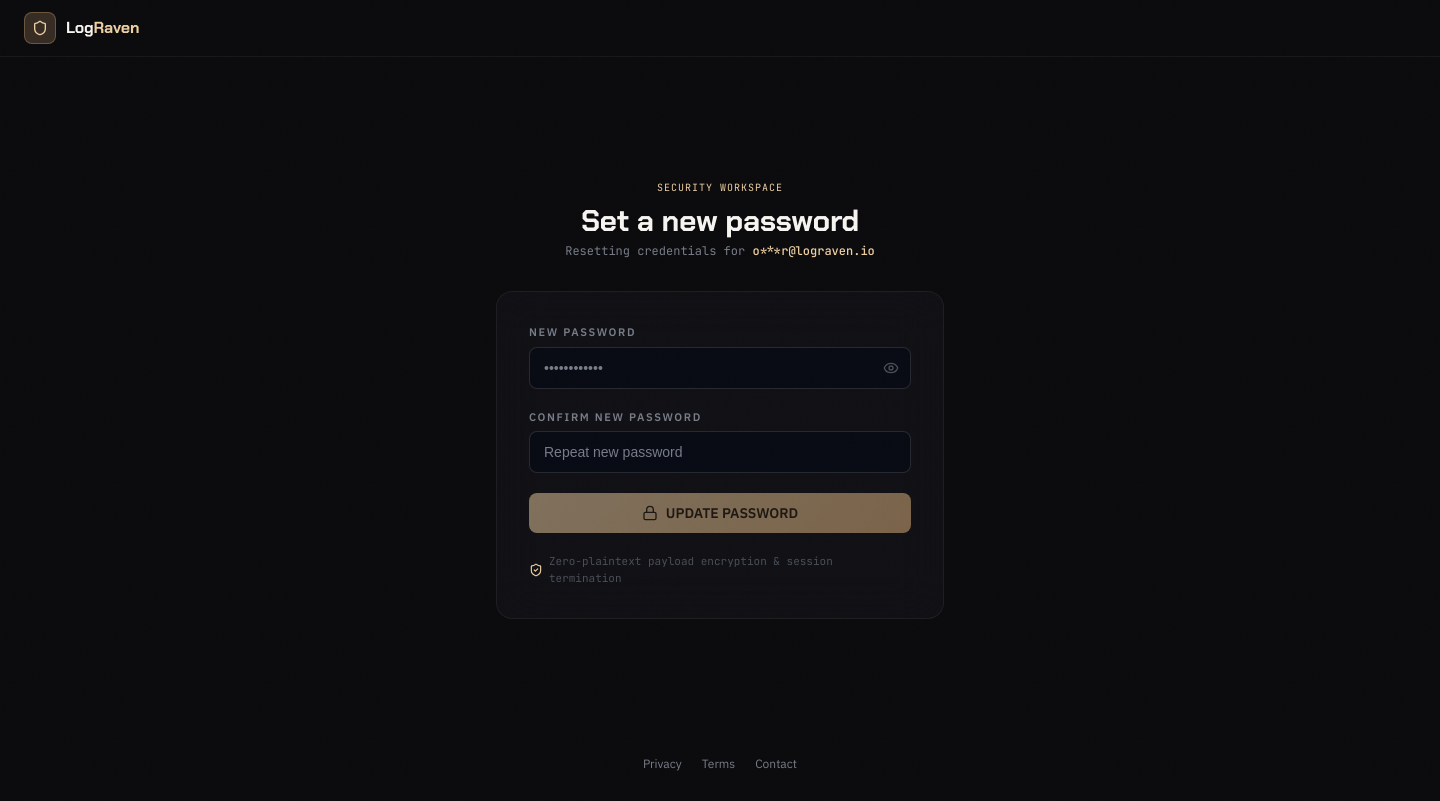
ResetPassword › enforces live password complexity checklist before allowing submit
Type "Short1!" into the password field labelled "New password" at (720, 368), box [529,346,911,388]
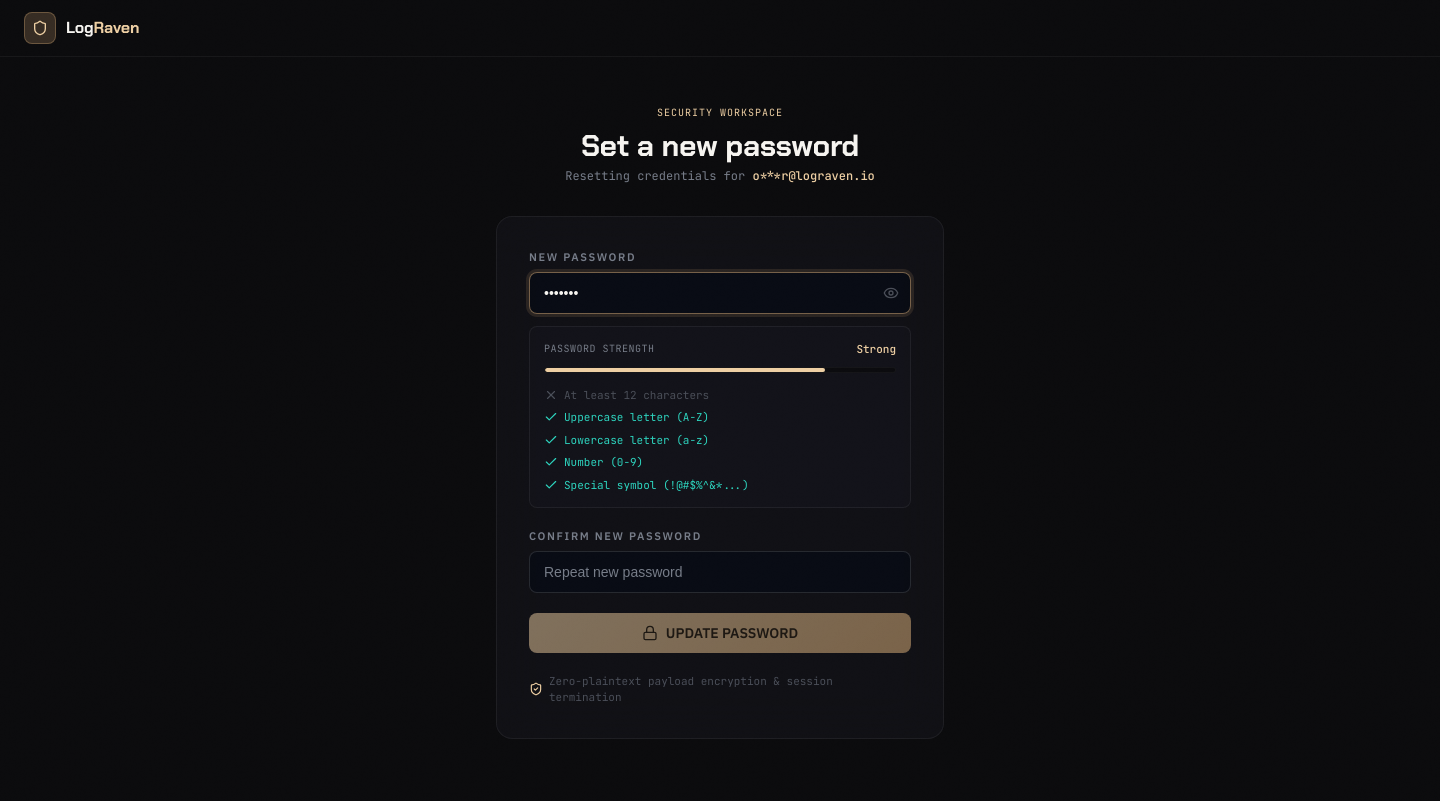
Type "Short1!" into the password field labelled "Confirm new password" at (720, 572), box [529,550,911,592]
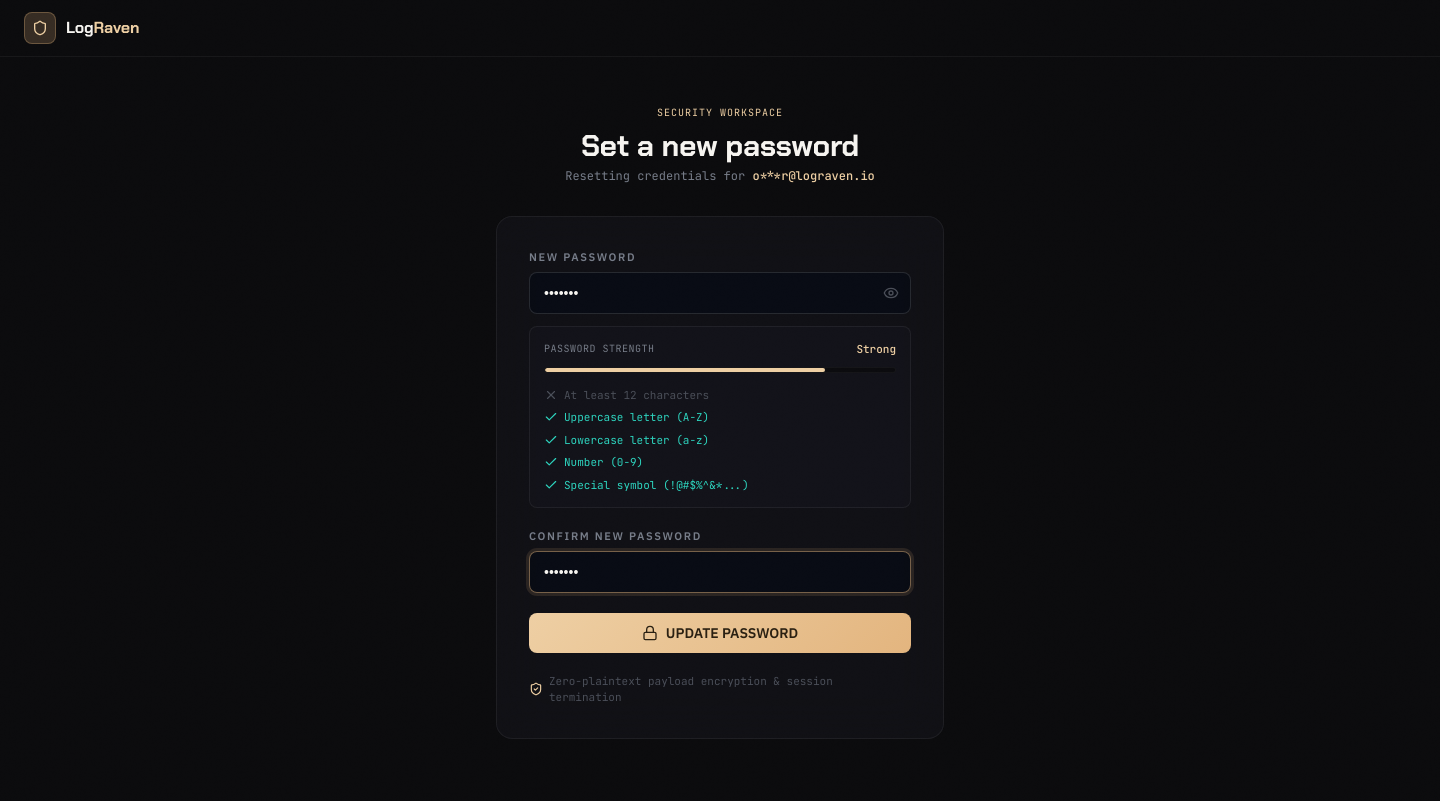
Click the button "Update password" at (720, 632), box [529,612,911,652]
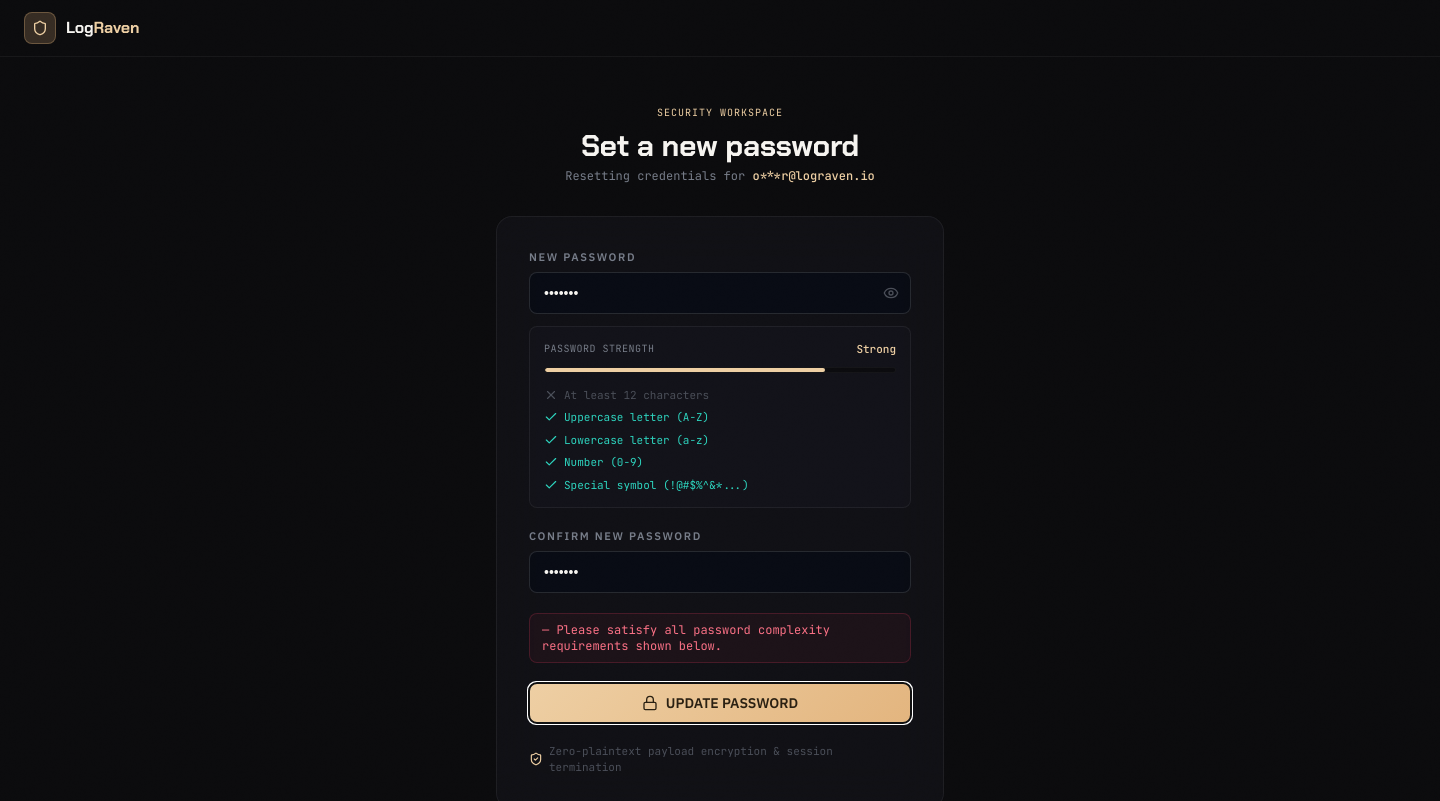
Check: the text "Please satisfy all password complexity requirements" is shown, box [542,622,830,654]
